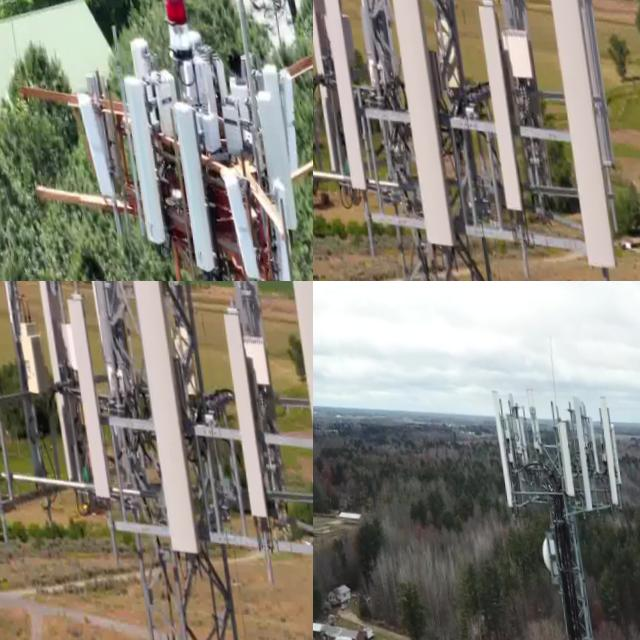GSM Antenna: (120, 281, 201, 569), (371, 0, 457, 252), (535, 0, 615, 267), (466, 0, 526, 217), (59, 282, 114, 511), (313, 0, 374, 201), (22, 281, 82, 482), (217, 299, 267, 527), (0, 281, 49, 500), (160, 89, 211, 278), (114, 64, 167, 243), (281, 281, 313, 575), (486, 0, 538, 123), (248, 74, 292, 211), (69, 85, 114, 210), (210, 153, 256, 267), (313, 0, 340, 168), (268, 52, 303, 163), (564, 378, 592, 516), (484, 378, 514, 501), (591, 382, 618, 502), (547, 407, 575, 496), (520, 379, 544, 462)
Microwave Antenna: (529, 520, 564, 581)
